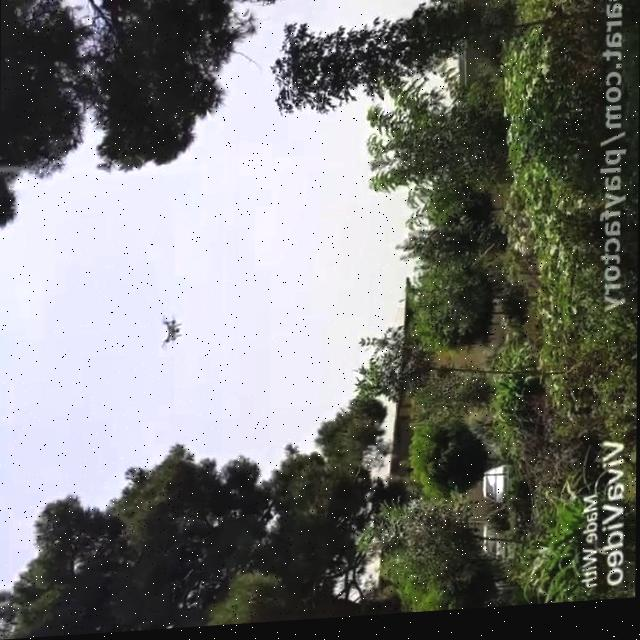drone: (154, 315, 184, 353)
